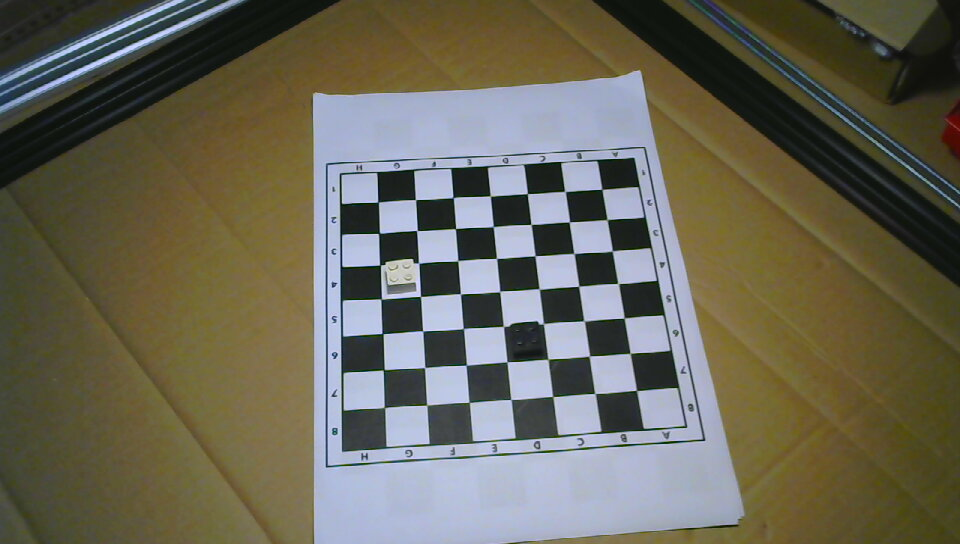bp: (508, 321, 542, 357)
wp: (384, 257, 417, 295)
